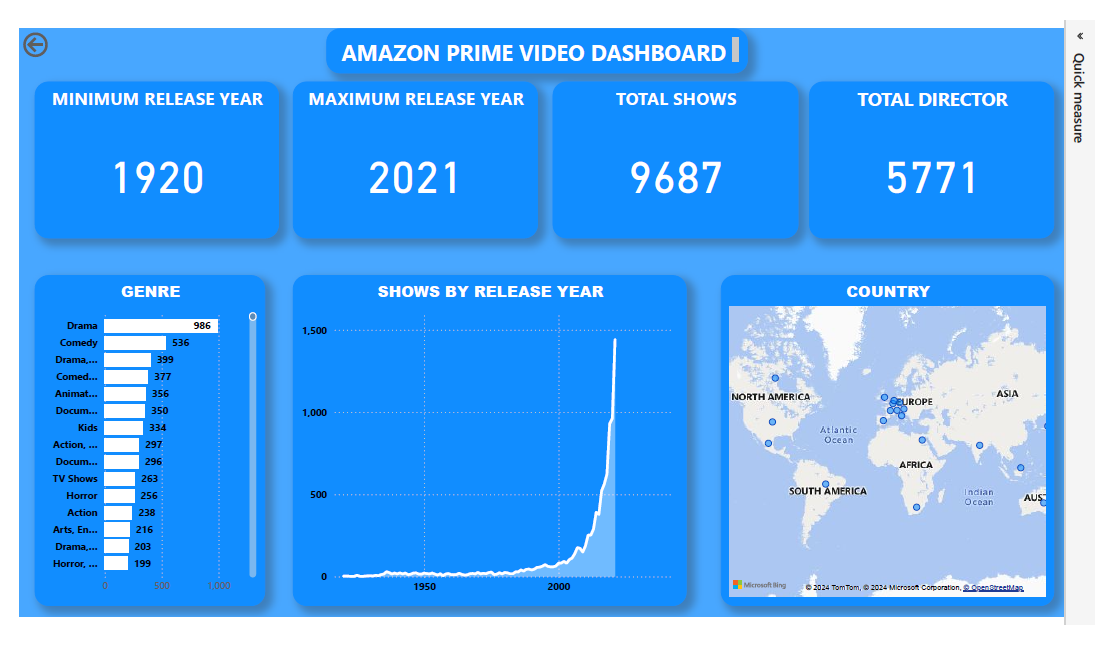

This screenshot's page, from the dashboard's own definition file:
{"tool":"powerbi","page":{"name":"Page 1","canvas":[1280,720],"ordinal":0},"visuals":[{"type":"textbox","box":[375.9,0,516.1,54.9],"z":0},{"type":"card","title":"MINIMUM RELEASE YEAR","fields":{"Values":["Min(amazon_prime_titles.release_year)"]},"box":[18.8,65.1,299.3,192.3],"z":1},{"type":"actionButton","box":[0,0,100,40],"z":2},{"type":"card","title":"MAXIMUM RELEASE YEAR","fields":{"Values":["Max(amazon_prime_titles.release_year)"]},"box":[335.4,65.1,299.3,192.3],"z":3},{"type":"card","title":"TOTAL SHOWS","fields":{"Values":["CountNonNull(amazon_prime_titles.show_id)"]},"box":[653.5,65.1,300.7,192.3],"z":4},{"type":"card","title":"TOTAL DIRECTOR","fields":{"Values":["Count(amazon_prime_titles.director)"]},"box":[967.2,65.1,299.3,192.3],"z":5},{"type":"map","title":"COUNTRY","fields":{"Category":["amazon_prime_titles.country"]},"box":[858.8,302.2,407.7,404.8],"z":7},{"type":"areaChart","title":"SHOWS BY RELEASE YEAR","fields":{"Category":["amazon_prime_titles.release_year"],"Y":["CountNonNull(amazon_prime_titles.show_id)"]},"box":[335.4,302.2,481.4,404.8],"z":8},{"type":"barChart","title":"GENRE","fields":{"Category":["amazon_prime_titles.listed_in"],"Y":["CountNonNull(amazon_prime_titles.show_id)"]},"box":[18.8,302.2,281.9,404.8],"z":9}]}

Visuals, with their boxes on the page's 1280x720 design canvas (x1, y1, x2, y2). These are canvas units, not pixel positions in the 1114x645 screenshot, which may show the page scaled, cropped or inside an application window:
textbox: <region>376, 0, 892, 55</region>
"MINIMUM RELEASE YEAR" card: <region>19, 65, 318, 257</region>
actionButton: <region>0, 0, 100, 40</region>
"MAXIMUM RELEASE YEAR" card: <region>335, 65, 635, 257</region>
"TOTAL SHOWS" card: <region>654, 65, 954, 257</region>
"TOTAL DIRECTOR" card: <region>967, 65, 1266, 257</region>
"COUNTRY" map: <region>859, 302, 1266, 707</region>
"SHOWS BY RELEASE YEAR" areaChart: <region>335, 302, 817, 707</region>
"GENRE" barChart: <region>19, 302, 301, 707</region>
